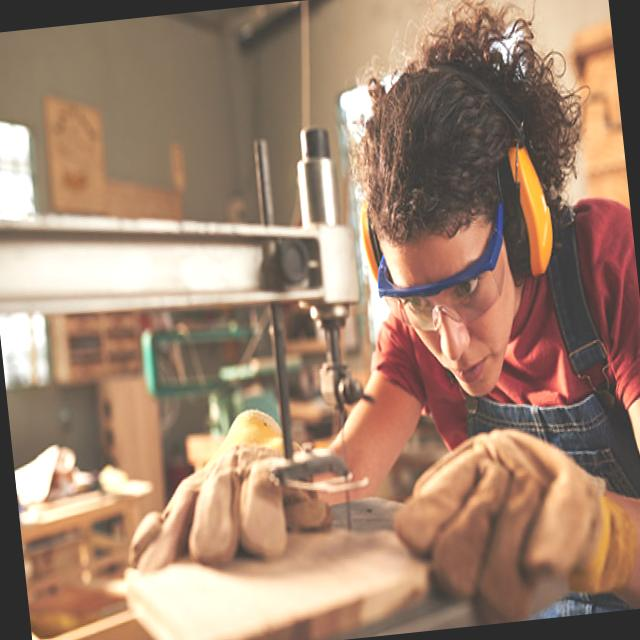goggles: (369, 210, 518, 347)
no-helmet: (326, 0, 599, 251)
no-vest: (515, 187, 640, 492)
